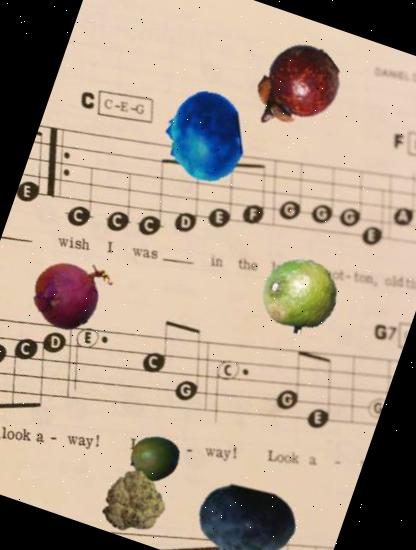Blueberry: (183, 460, 309, 550)
Cauliflower: (94, 463, 175, 544)
Huckleberry: (146, 79, 262, 195)
Limes: (250, 248, 348, 344)
Mango: (122, 426, 188, 492)
Mangostan: (234, 27, 355, 148)
Onion: (21, 241, 124, 344)
